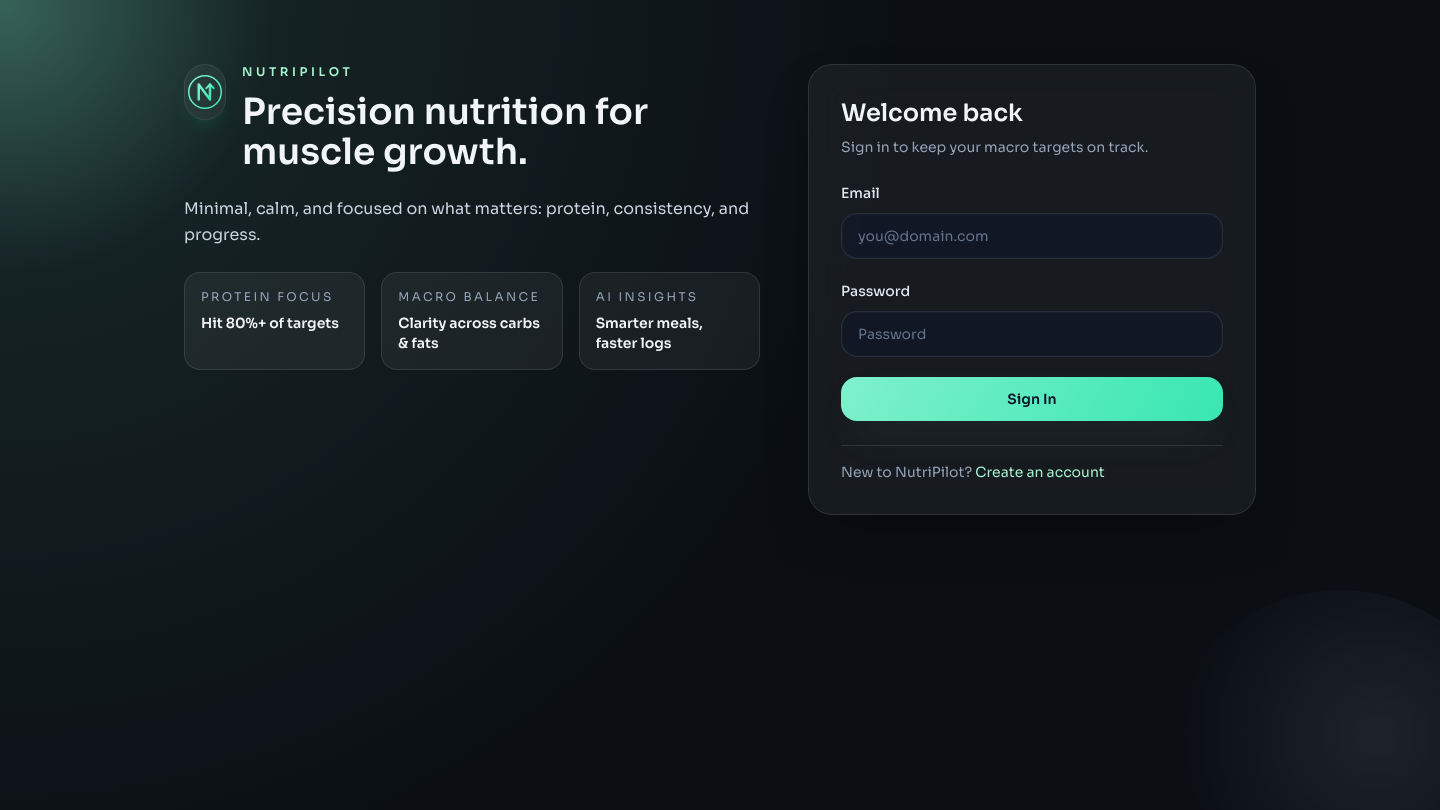
Test case: LoginForm › shows policy error for weak password
Type "user@example.com" into the field labelled "Email" at point(1032, 236), box 841,213 -> 1223,259
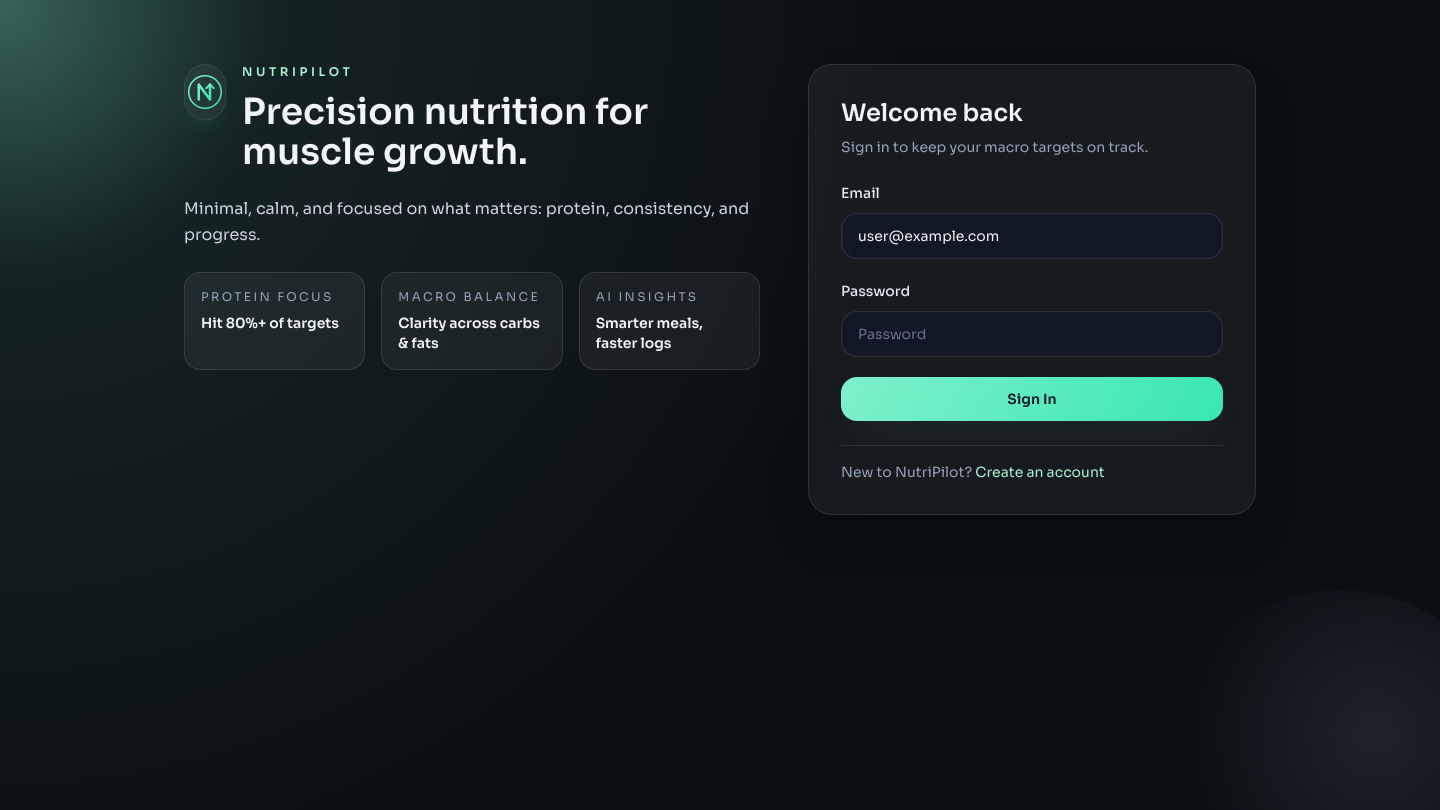
Type "weakpass" into the password field labelled "Password" at point(1032, 334), box 841,311 -> 1223,357
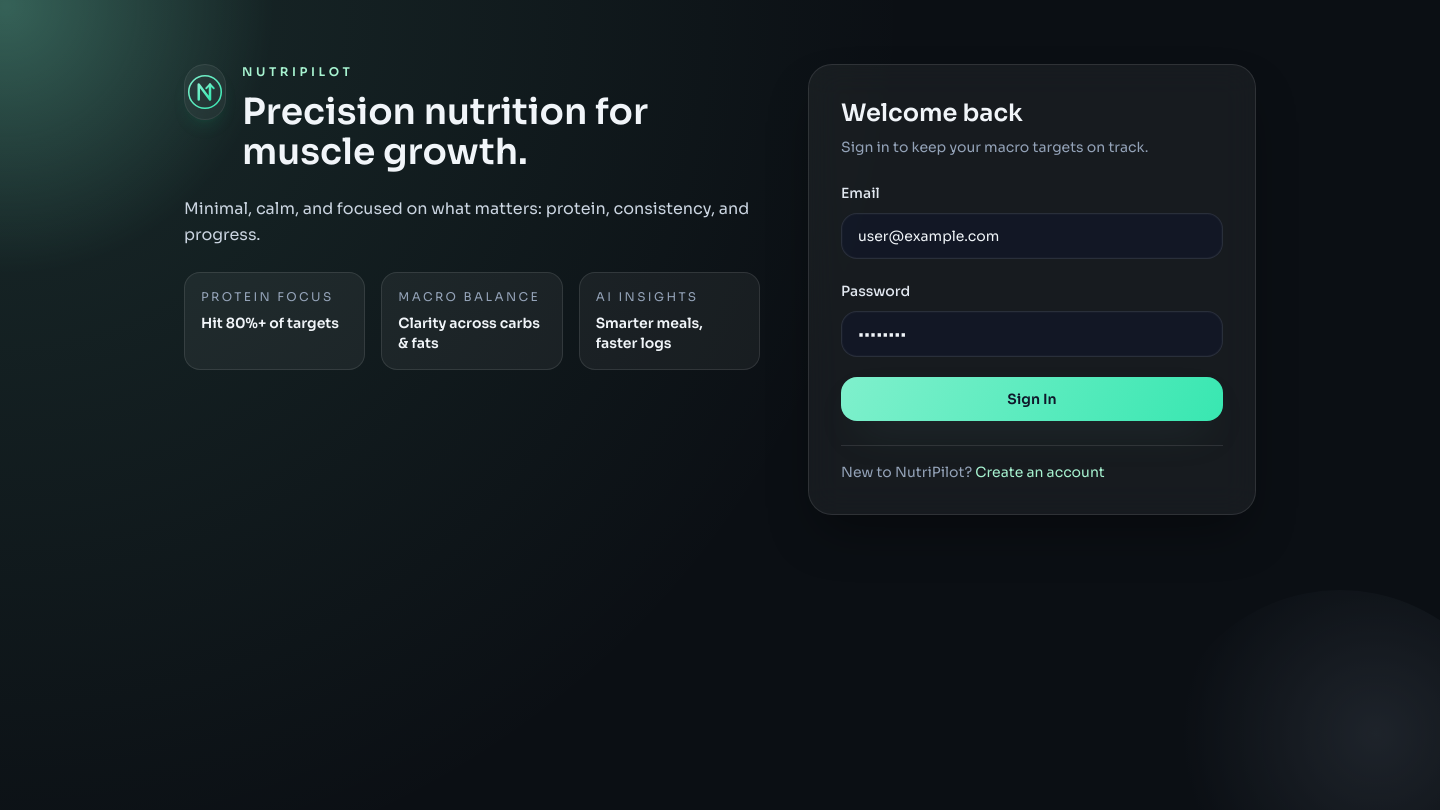
Click the button "Sign In" at point(1032, 399), box 841,377 -> 1223,421
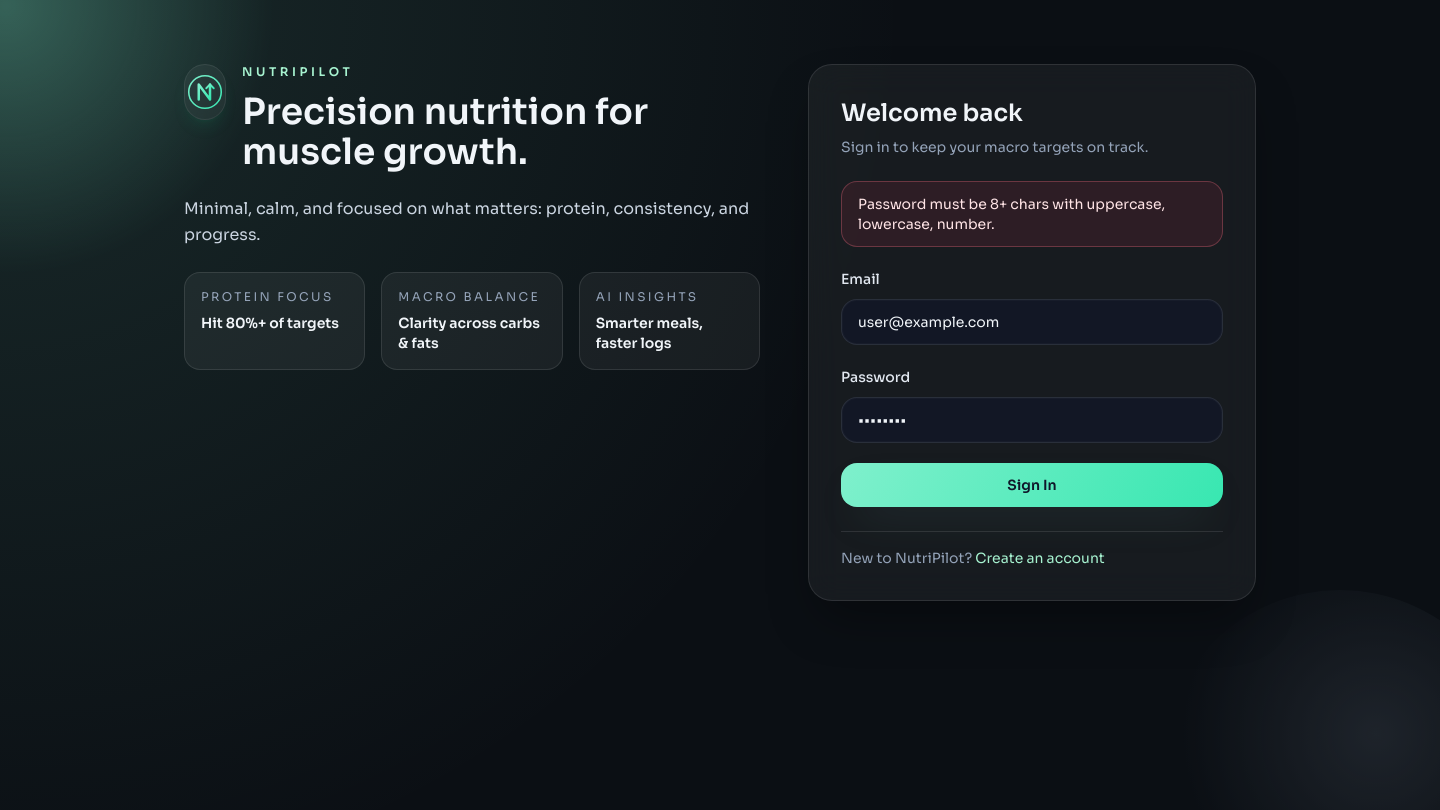
expect the text "Password must be 8+ chars with uppercase, lowercase, number." is shown: met, box 841,181 -> 1223,247
